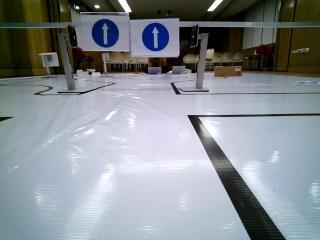straight: (81, 13, 130, 51), (130, 19, 178, 56)
